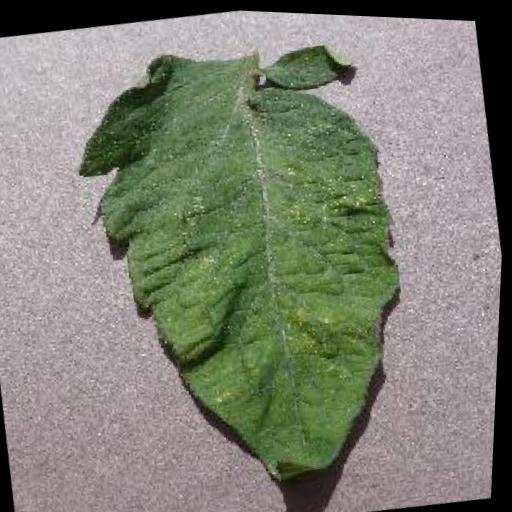Spider Mites: (52, 12, 440, 505)
